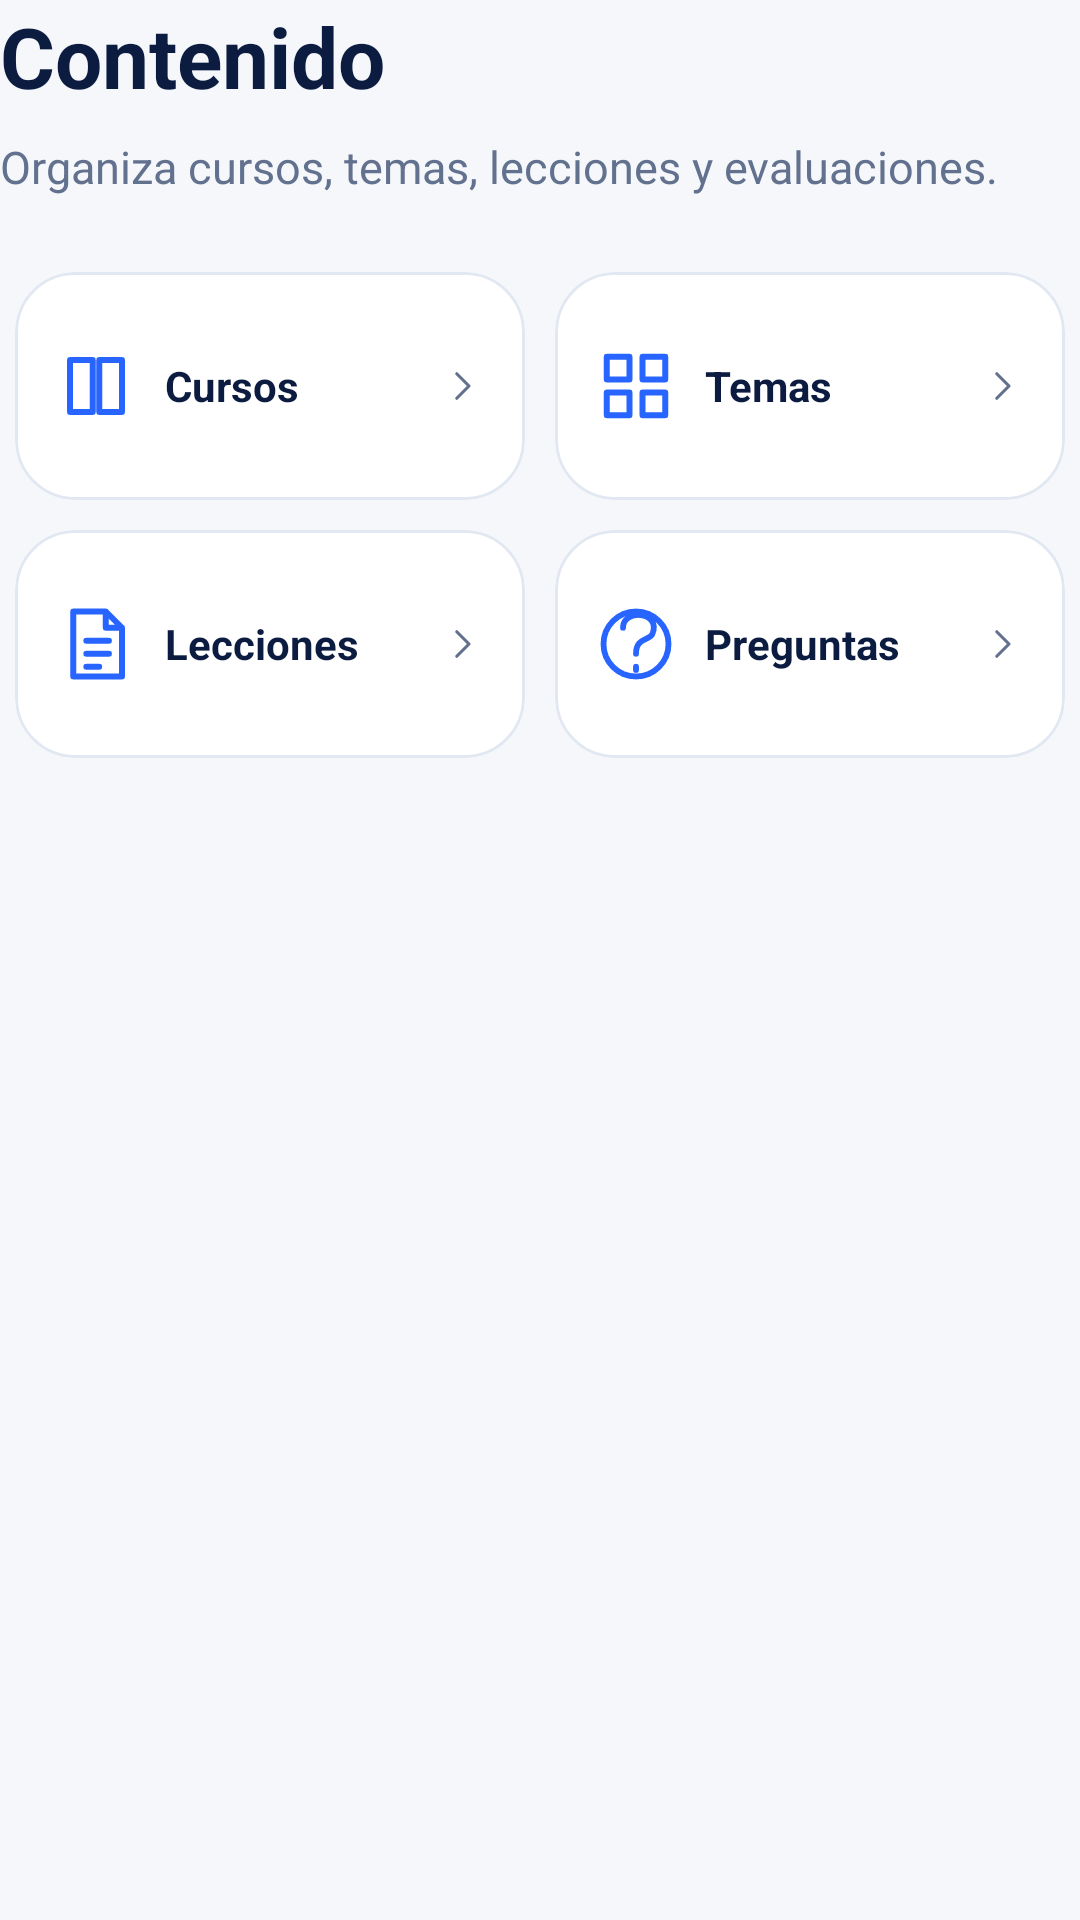

Icons on this 1080*1920 Android screen, each with the point to tap as [x,y]:
cuadricula: [636,386]
flecha: [463,386], [1003,386], [463,644], [1003,644]
libro: [96,386]
